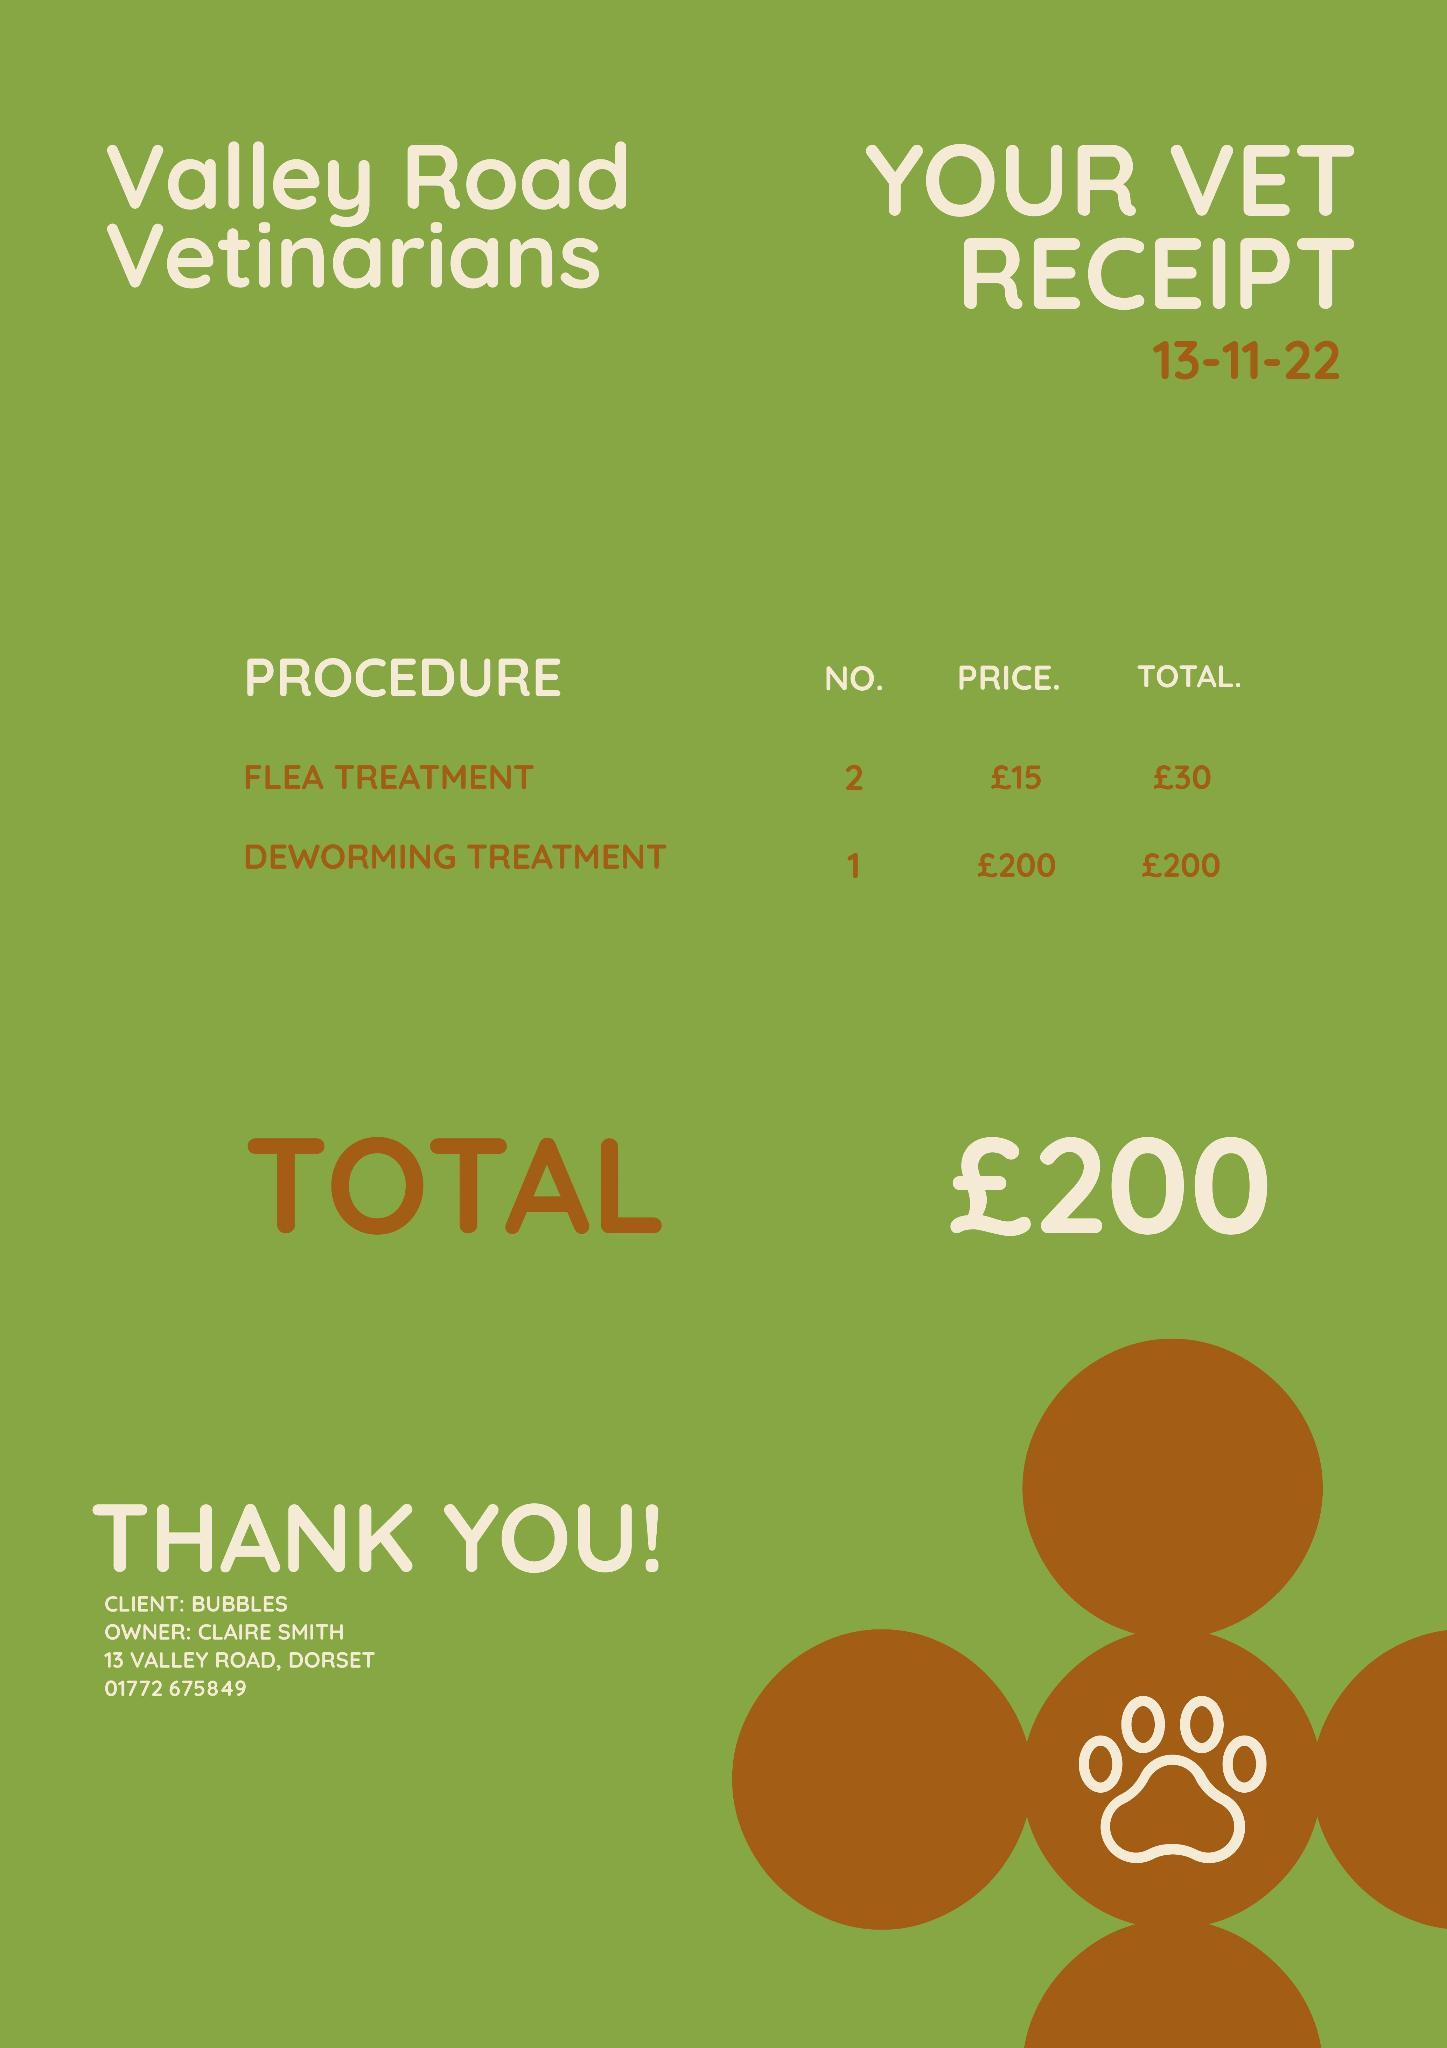ROI: (188, 594, 1291, 949), (82, 1462, 681, 1736), (849, 107, 1367, 400), (61, 97, 672, 314), (237, 1108, 684, 1264), (958, 1091, 1286, 1271)
